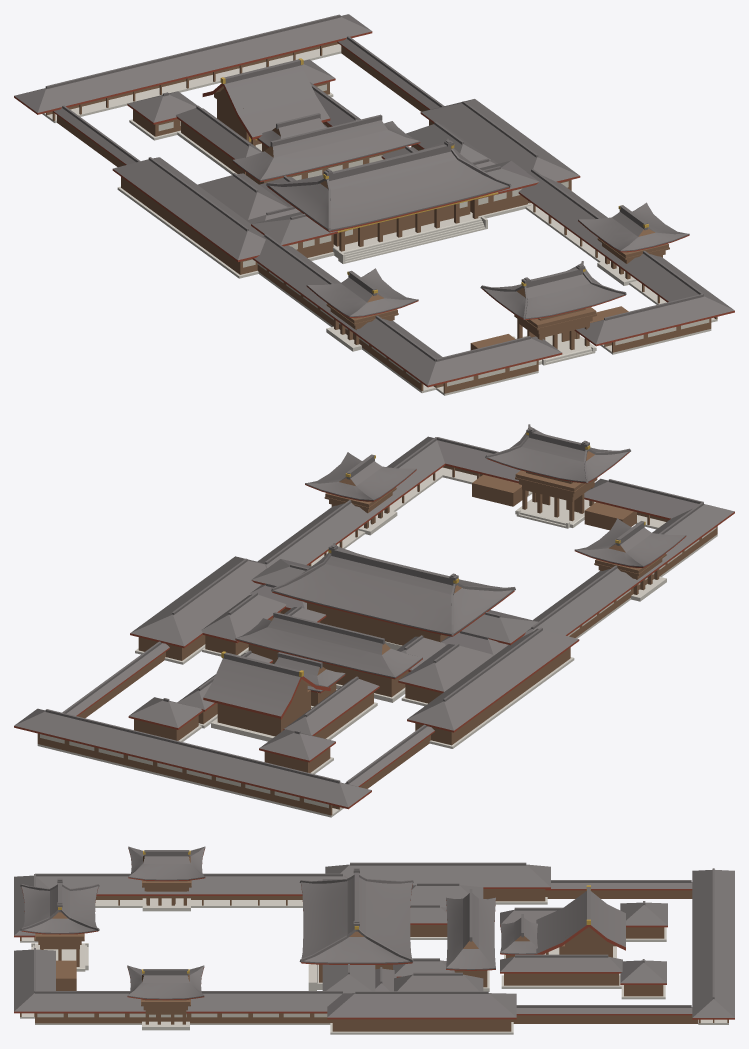
Rendered from tokyo-meiji-jingu.glb.
3 renders of one model, top to bottom at view 1: azimuth 30°, elevation 25°; view 2: azimuth 150°, elevation 25°; view 3: azimuth 270°, elevation 25°, orthographic. The views are drawn at different scales.
Visible parts, largest first — view 1: Meiji Jingu; view 2: Meiji Jingu; view 3: Meiji Jingu.
Part boxes in pixels (<box>): Meiji Jingu: <box>14,14,734,395</box>; Meiji Jingu: <box>14,424,734,817</box>; Meiji Jingu: <box>14,846,734,1034</box>.
Size of the model in its own units: 77.2 by 16.25 by 156.
